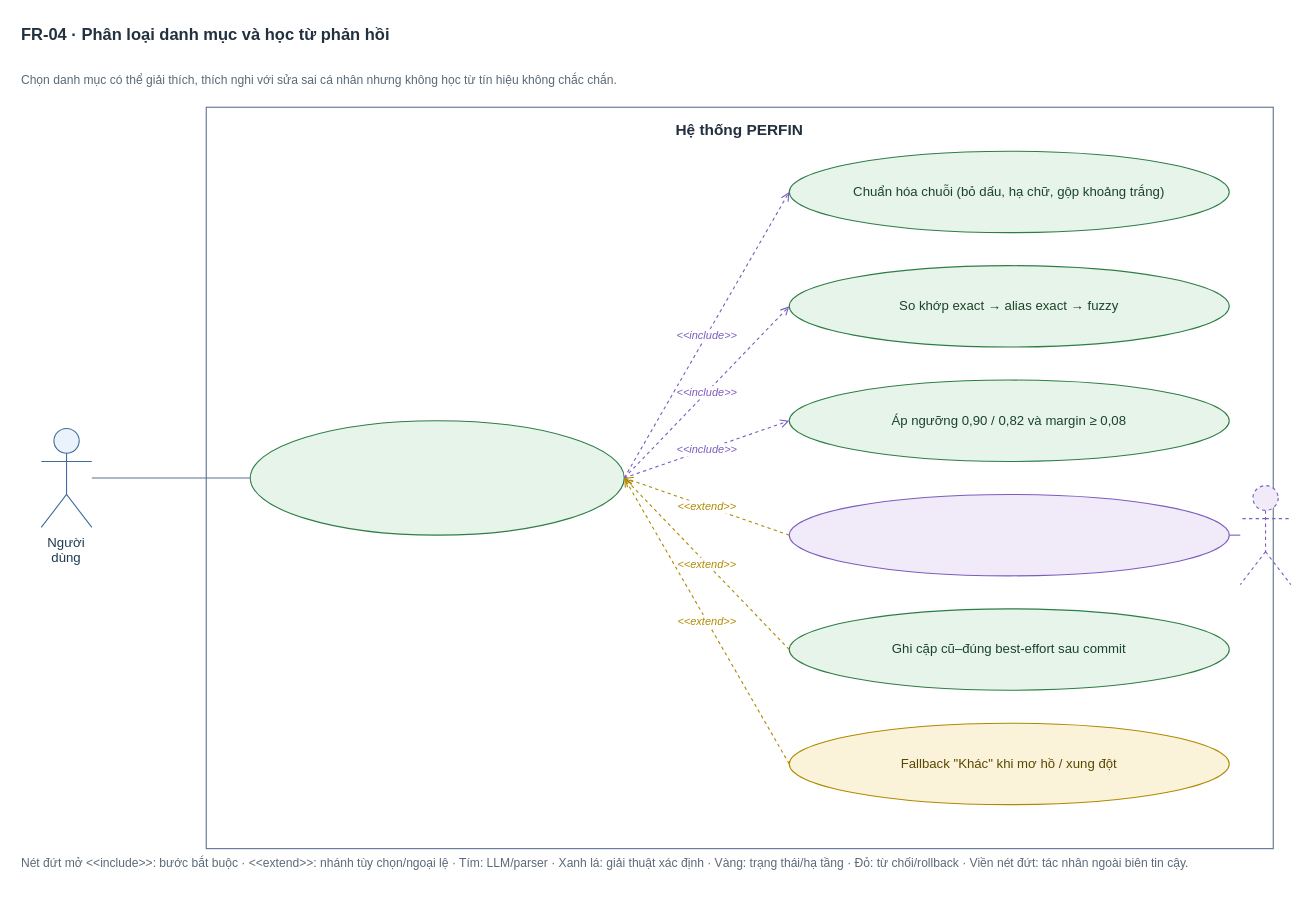
Image size: 1313x906. Some labels were removed from this diagram. Each missing label, with the centre of its shape:
"Dùng correction gần input làm few-shot context" belongs at (x=1008, y=534).
"Dịch vụ AI ngoài (LLM few-shot)" belongs at (x=1265, y=535).
"Phân loại danh mục giao dịch" belongs at (x=436, y=477).
